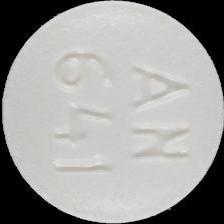50268-320: (0, 0, 224, 224)
